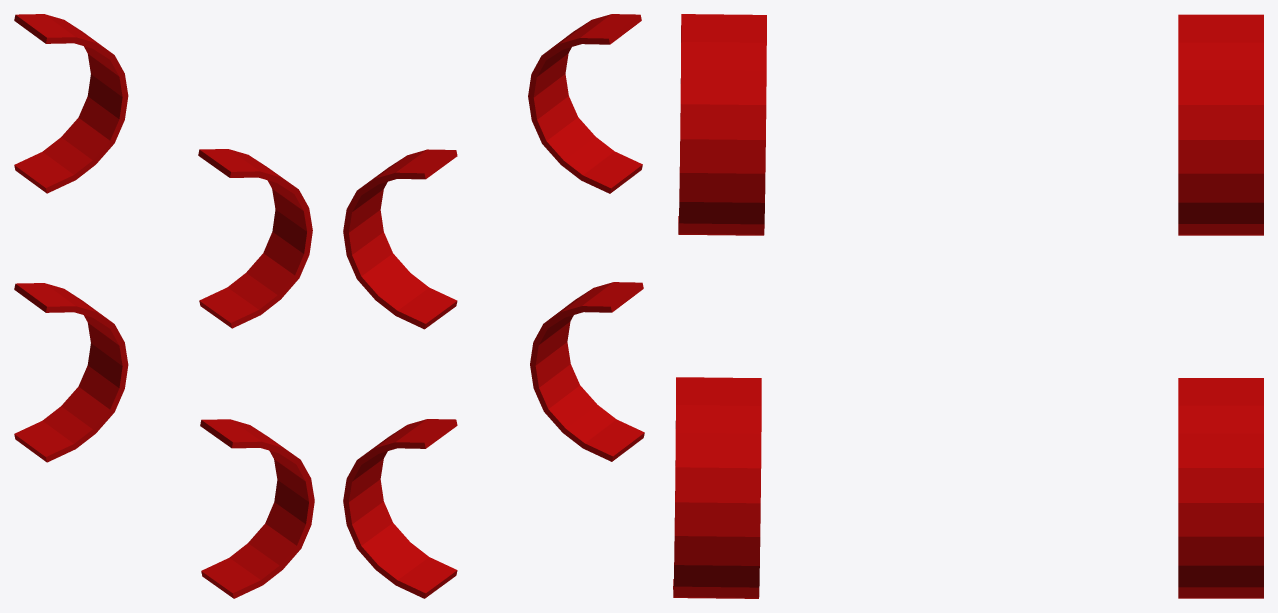
The model's file is GMR_base_vis_1.dae.
3 renders of one model, left to right at view 1: azimuth 30°, elevation 25°; view 2: azimuth 150°, elevation 25°; view 3: azimuth 270°, elevation 25°, orthographic. The views are drawn at different scales.
Parts seen in each view (by area): view 1: node; view 2: node; view 3: node.
Boxes of the visible parts, bbox=[...] form: node: bbox=[14, 14, 314, 598]; node: bbox=[343, 14, 644, 598]; node: bbox=[673, 14, 1263, 598].
Size of the model in its own units: 0.2218 by 1.09 by 1.02.
